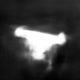plane: (10, 23, 70, 62)
